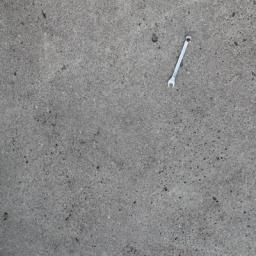FOD: (167, 34, 193, 90)
